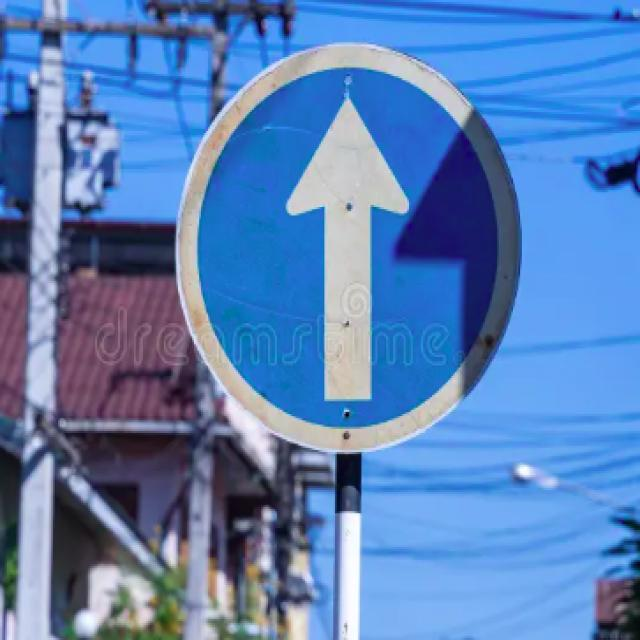STRAIGHT: (178, 46, 518, 450)
